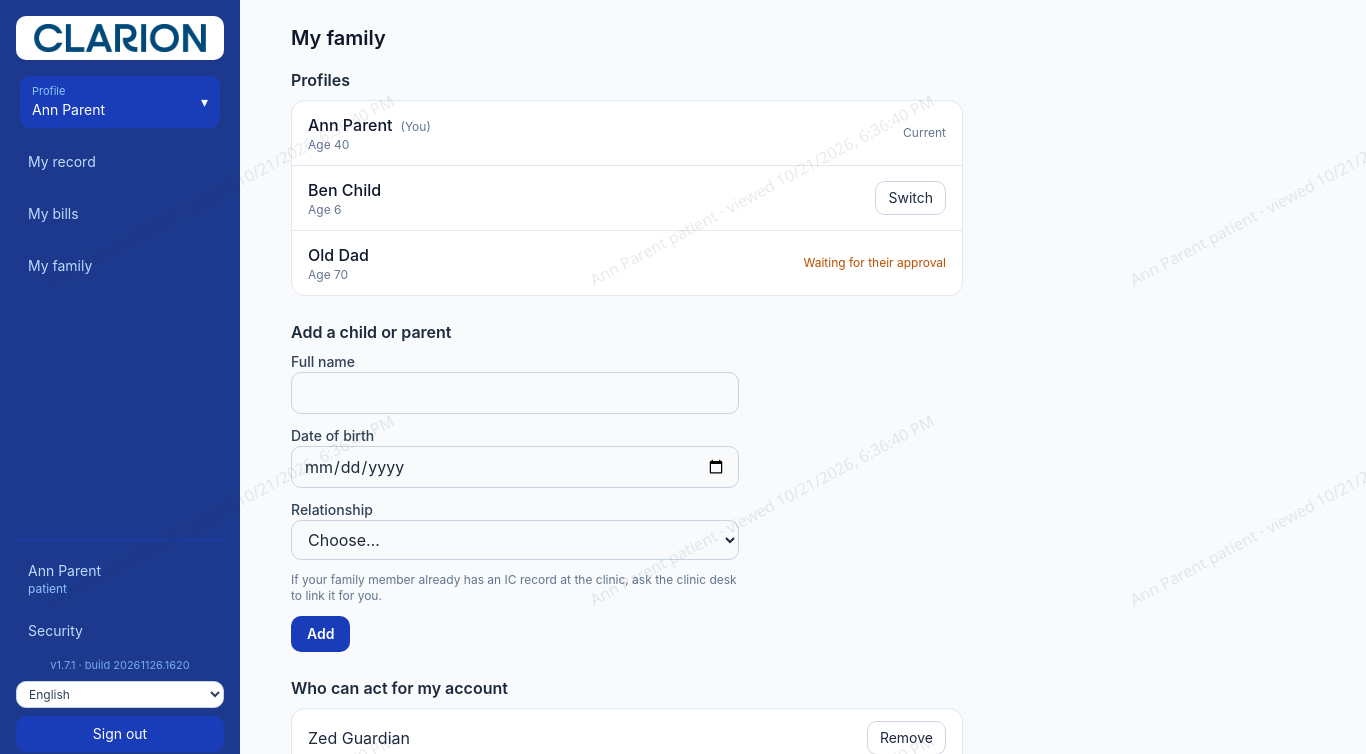
Family page › shows the server detail on a 409 save failure
Check: the text "Ben Child" is shown, box [308,180,381,200]
In the field labelled "Full name": (515,393) [291,372,739,414], type " Cy Kid "
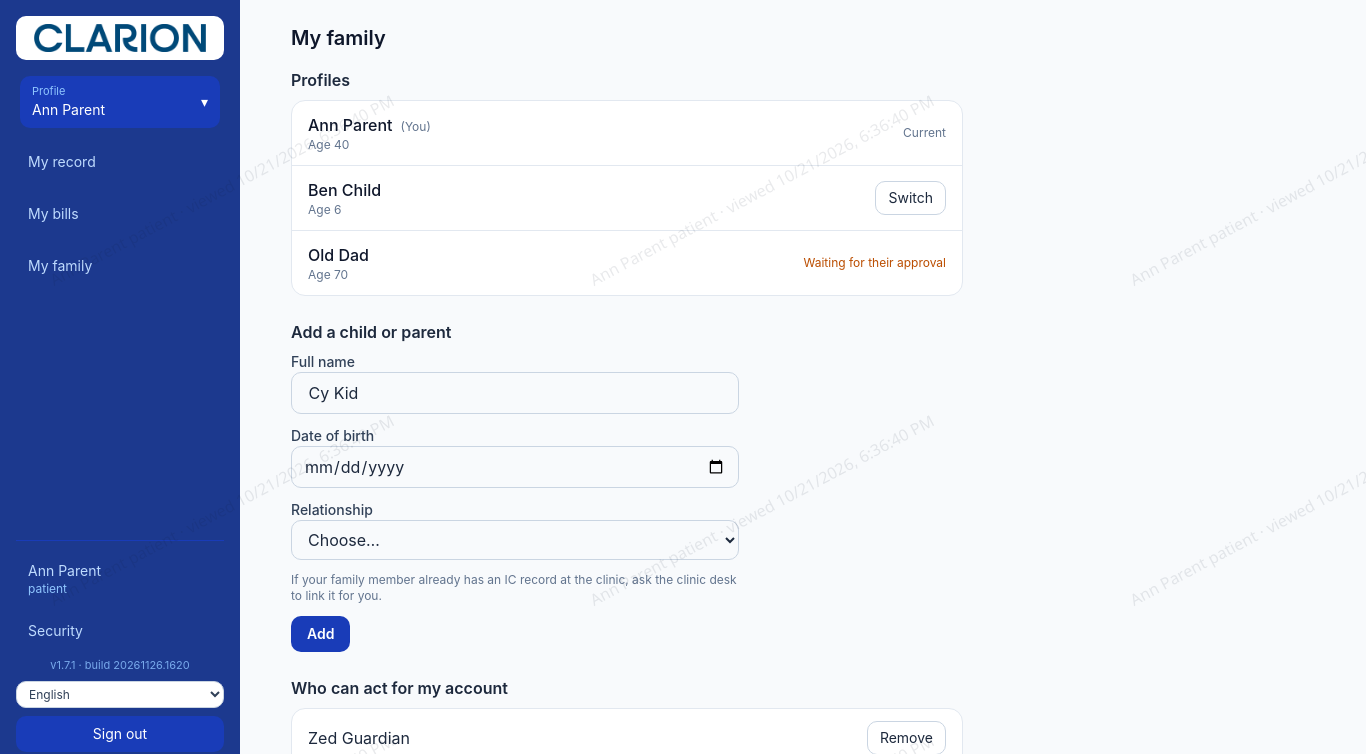
In the date field labelled "Date of birth": (515,467) [291,446,739,488], type "2020-02-02"
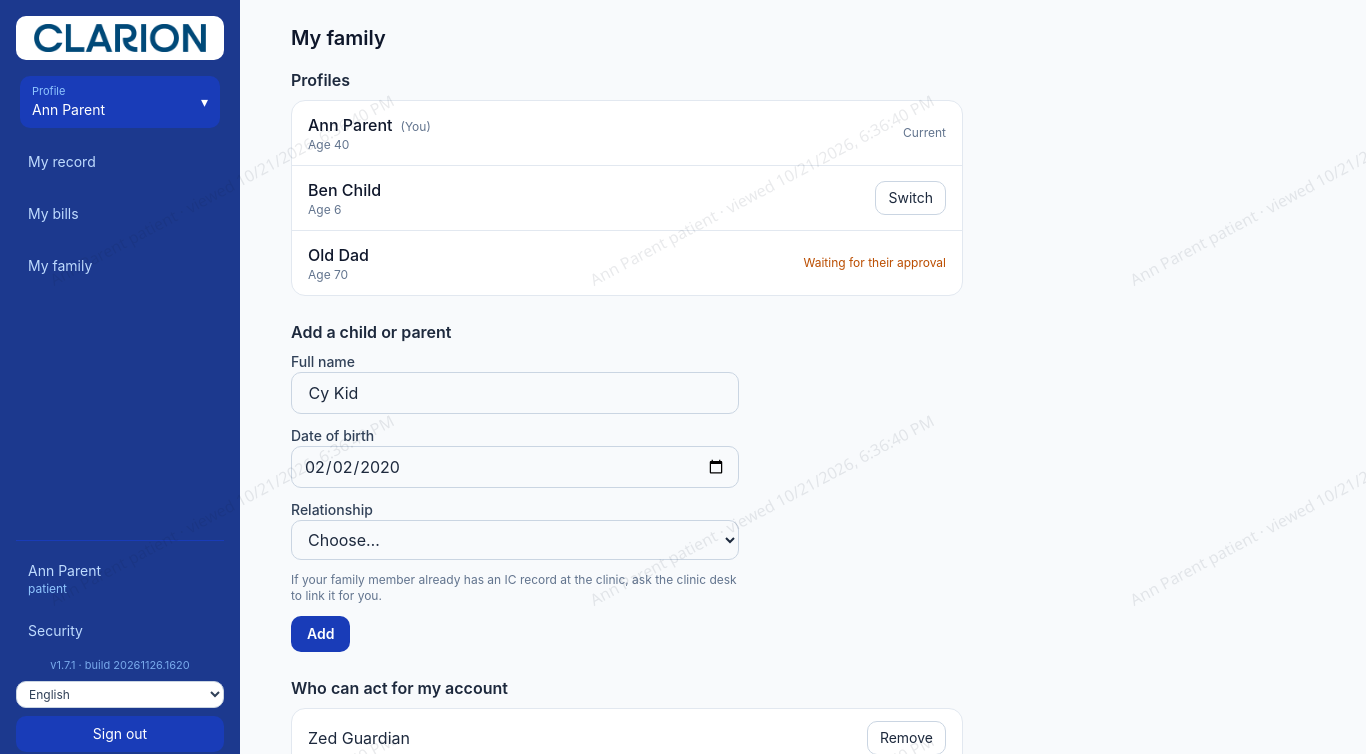
Select "Child" in the dropdown labelled "Relationship": (515,540) [291,520,739,560]
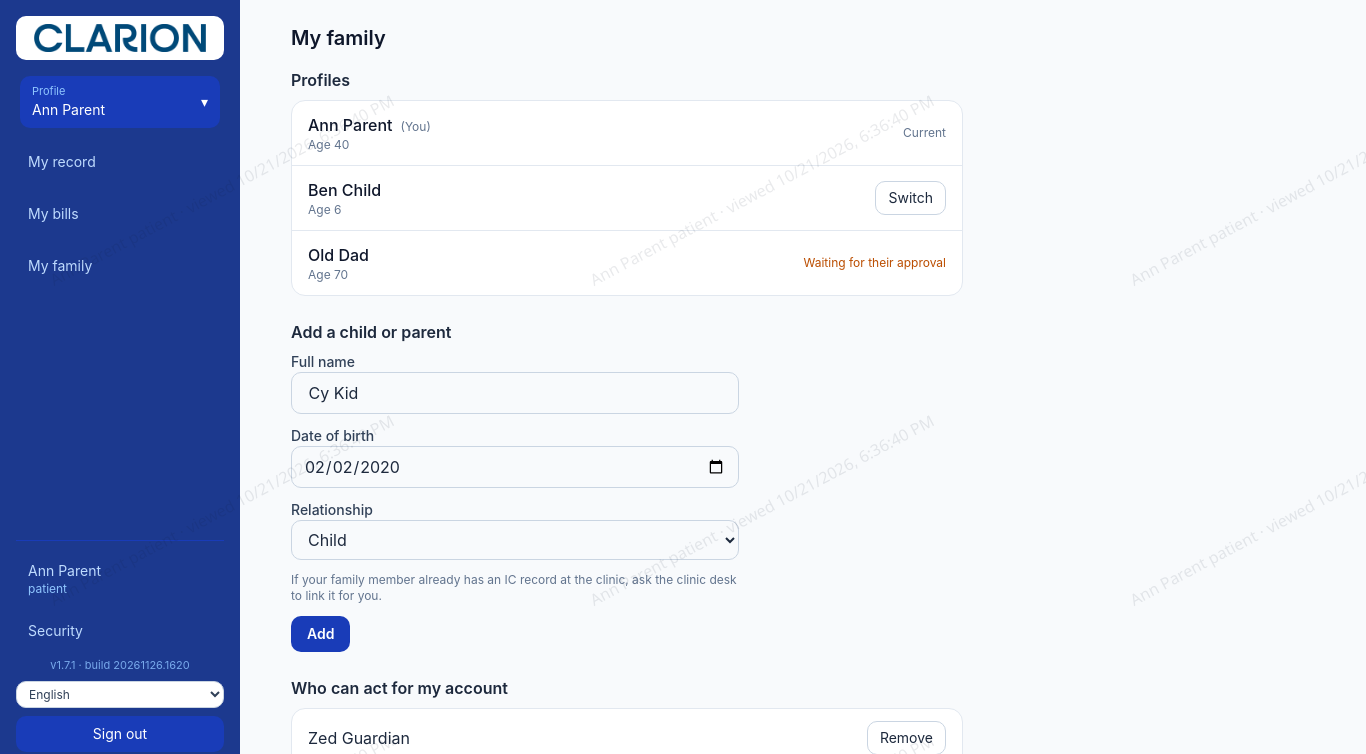
Click the button "Add": (321,634) [291,616,350,652]
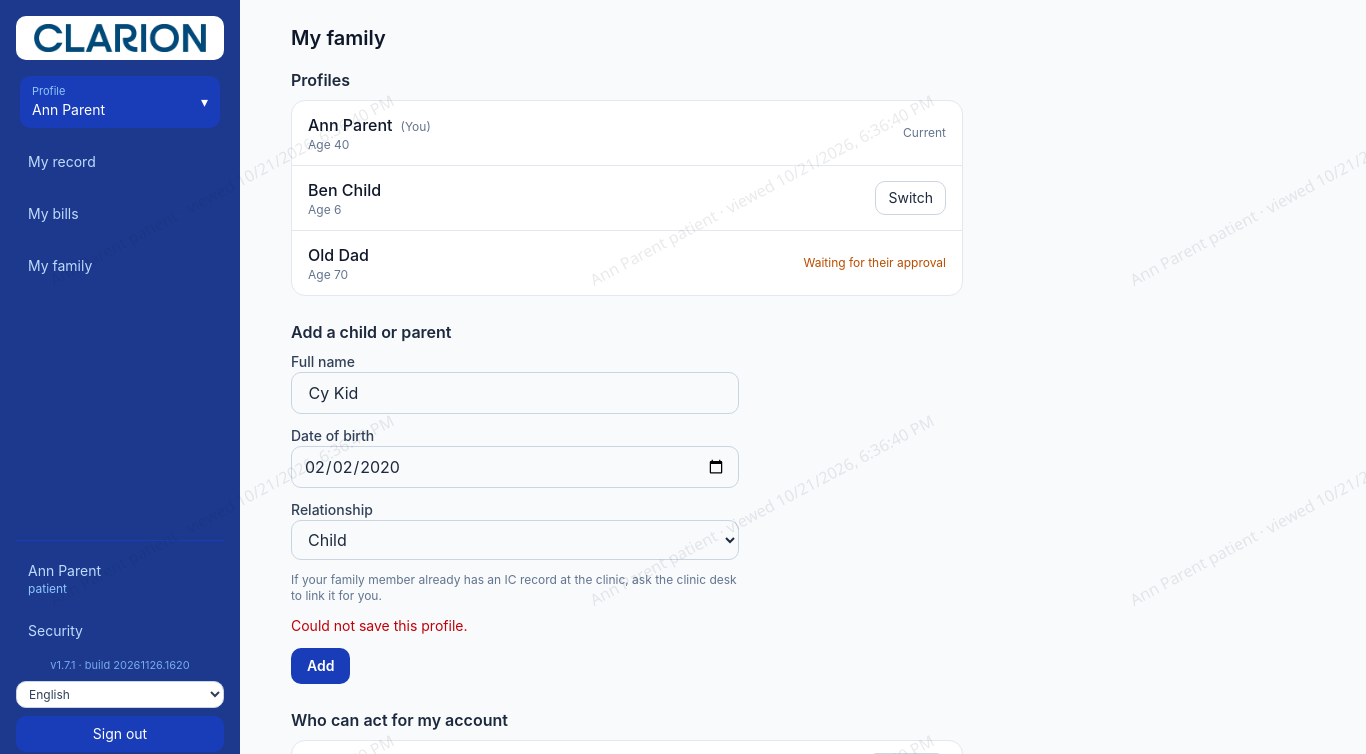
Check: the message shows "Could not save this profile", box [291,617,468,634]
